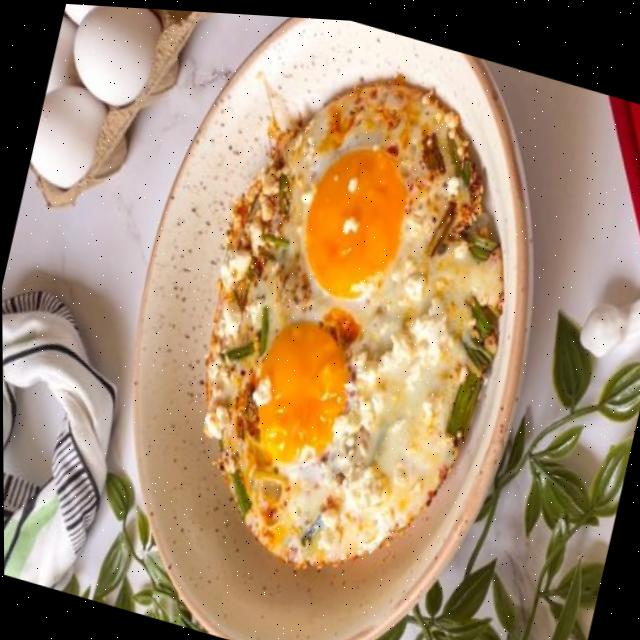Egg: (204, 73, 501, 562)
